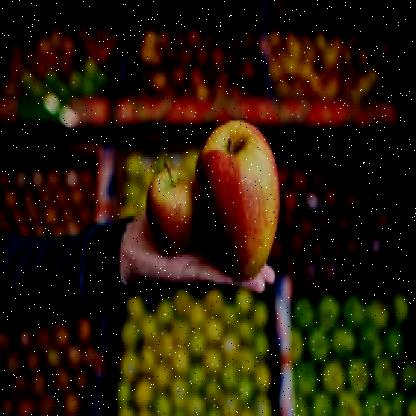apple: (202, 112, 276, 268), (138, 164, 197, 250)
